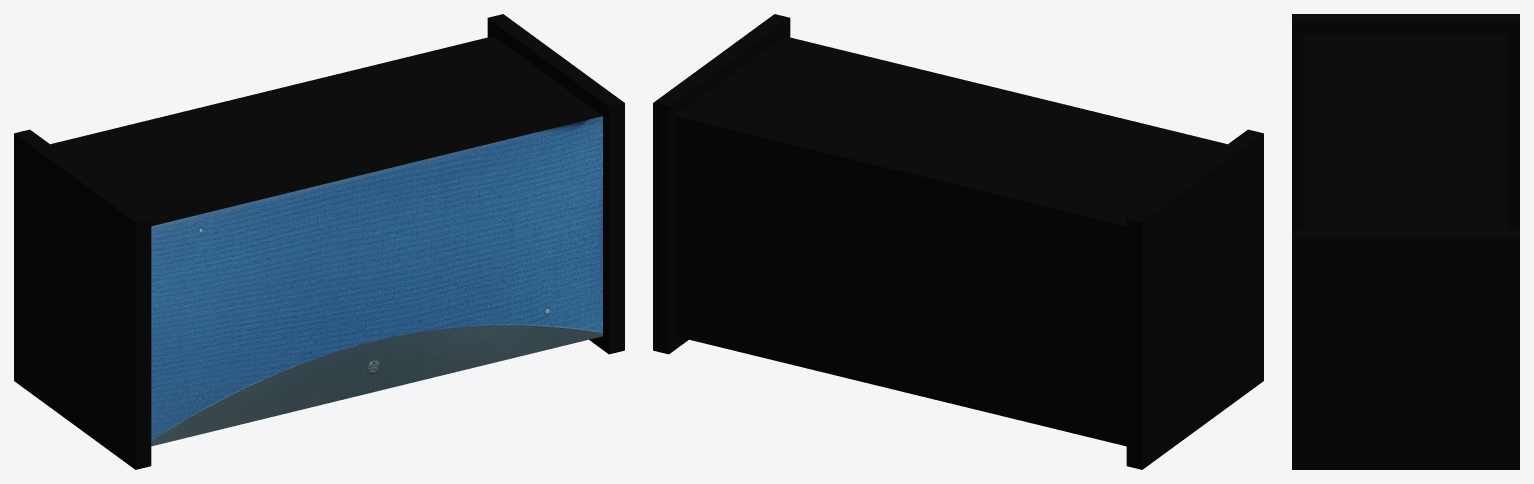
Rendered from CabinetBlue.fbx.
3 views of the same model, side by side, from view 1: azimuth 30°, elevation 25°; view 2: azimuth 150°, elevation 25°; view 3: azimuth 270°, elevation 25° (orthographic). The views are drawn at different scales.
Visible parts, largest first — view 1: CabinetBluePt1, CabinetBlueL, CabinetBlueR; view 2: CabinetBluePt1, CabinetBlueL, CabinetBlueR; view 3: CabinetBlueR, CabinetBluePt1, CabinetBlueL.
Part boxes in pixels (left/top/right/bottom): CabinetBluePt1: left=50, top=36, right=602, bottom=446; CabinetBlueL: left=14, top=129, right=151, bottom=469; CabinetBlueR: left=487, top=14, right=624, bottom=354; CabinetBluePt1: left=675, top=36, right=1227, bottom=446; CabinetBlueL: left=1126, top=129, right=1263, bottom=469; CabinetBlueR: left=653, top=14, right=790, bottom=354; CabinetBlueR: left=1292, top=230, right=1519, bottom=469; CabinetBluePt1: left=1303, top=34, right=1508, bottom=230; CabinetBlueL: left=1292, top=14, right=1519, bottom=230.
Size of the model in its own units: 0.93 by 0.45 by 0.4.
Materials: 2 (1 with a texture image).
